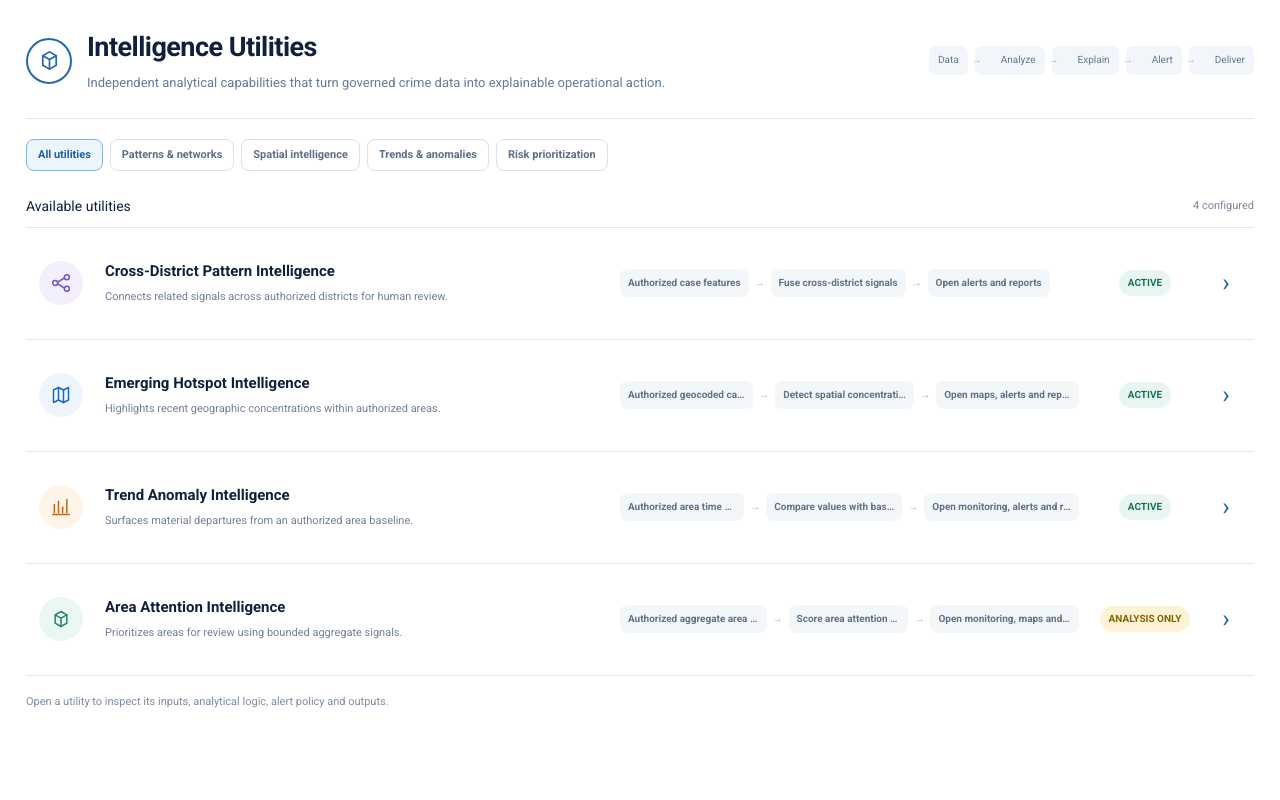
Test: derives category filters from the catalogue response and exposes pressed state
Expected: the heading "Area Attention Intelligence" is shown, [105,598,285,616]
Click the button "Spatial intelligence". click: (301, 155)
box: [241,139,360,171]
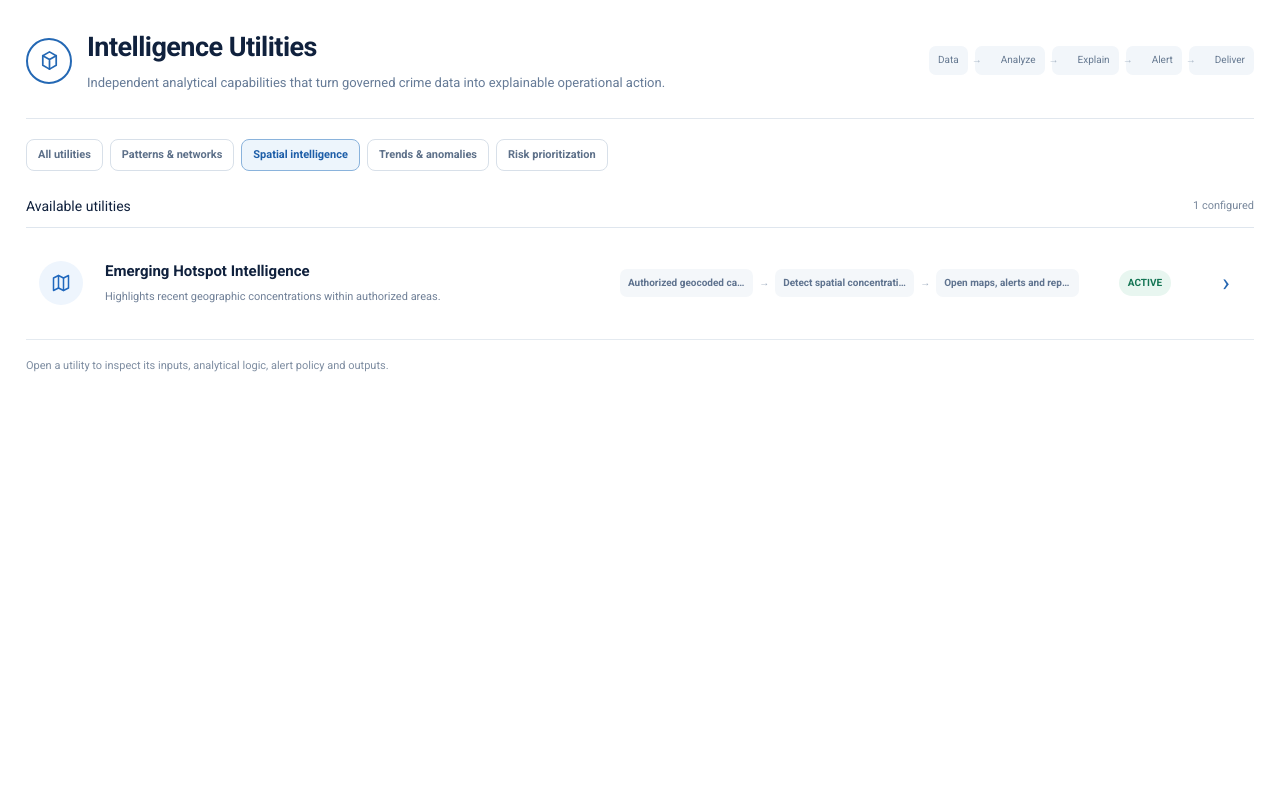
Expected: the heading "Emerging Hotspot Intelligence" is shown, [105,262,310,280]
Result: the heading "Area Attention Intelligence" is gone
